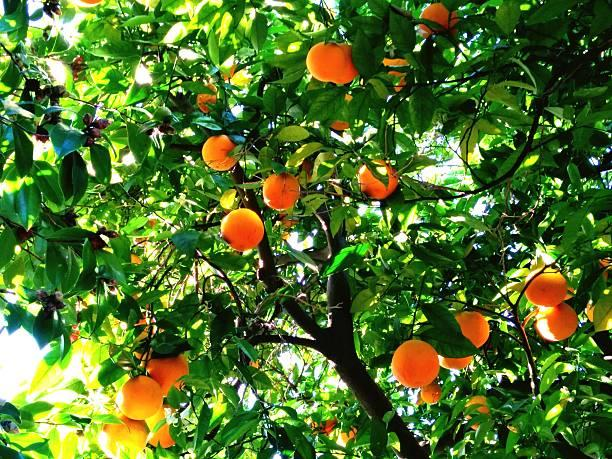apple: (293, 36, 362, 93), (201, 121, 243, 170), (264, 169, 307, 214)
orange: (100, 342, 203, 459), (534, 265, 590, 349), (393, 344, 452, 408), (217, 206, 268, 253), (337, 162, 394, 203), (528, 309, 587, 346), (147, 350, 195, 395), (108, 376, 159, 418), (441, 306, 494, 345)
